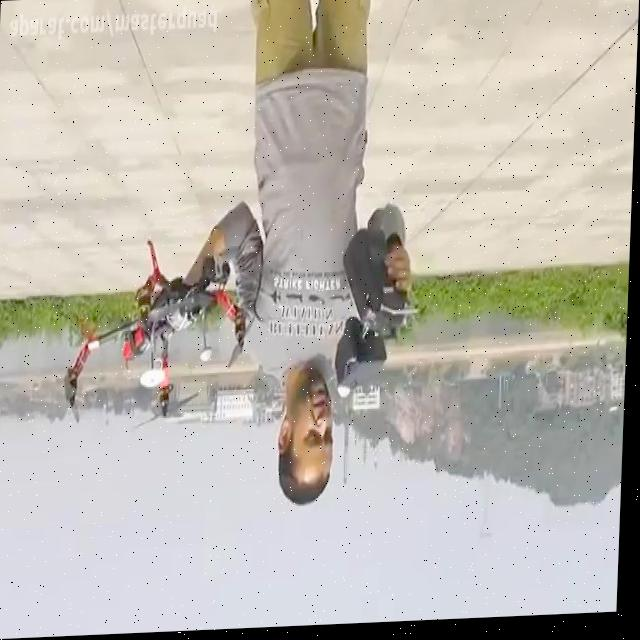drone: (61, 233, 263, 439)
